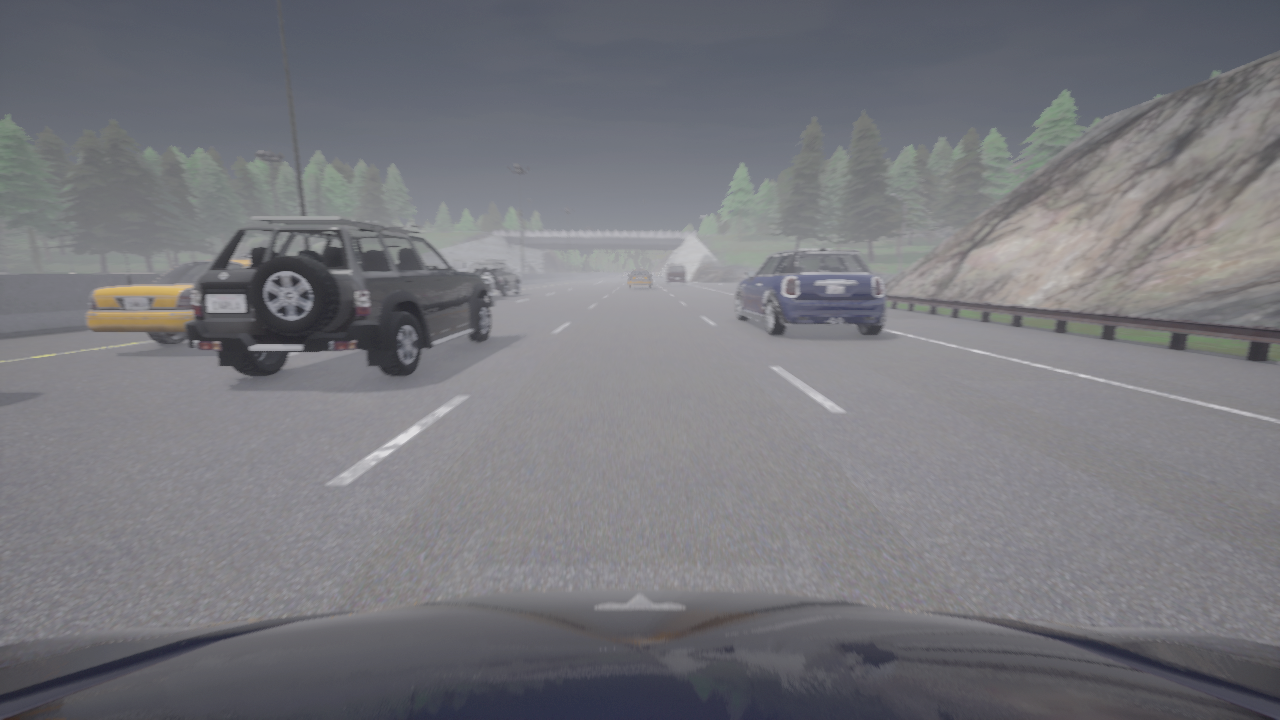cyclist: (0, 588, 1279, 719), (185, 217, 495, 376), (735, 246, 885, 335), (86, 260, 210, 344), (468, 260, 521, 296), (628, 268, 651, 288), (665, 265, 686, 285)
